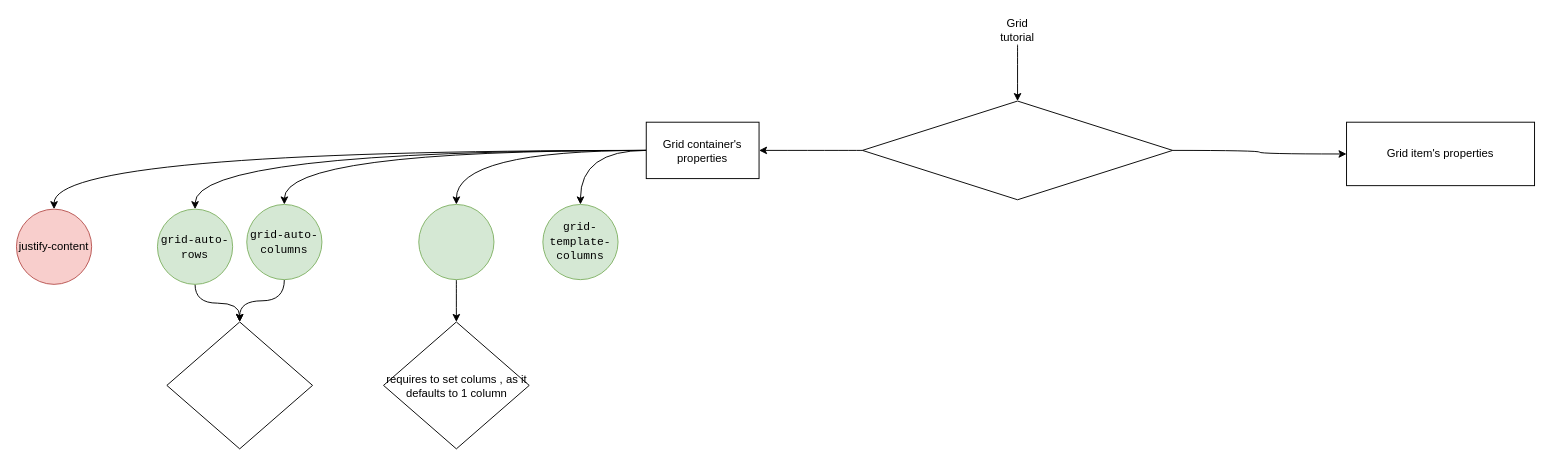
Image size: 1551x465. Some labels were removed from this diagram. The shapes that lost their labels are listed below. From the top down, each one's centre as x and y in pixels, then its label:
At point 1017,150: "Properties for Specifying a Grid's Layout".
At point 456,242: "grid-template-rows".
At point 239,385: "set default column/row width (all columns/rows)".
